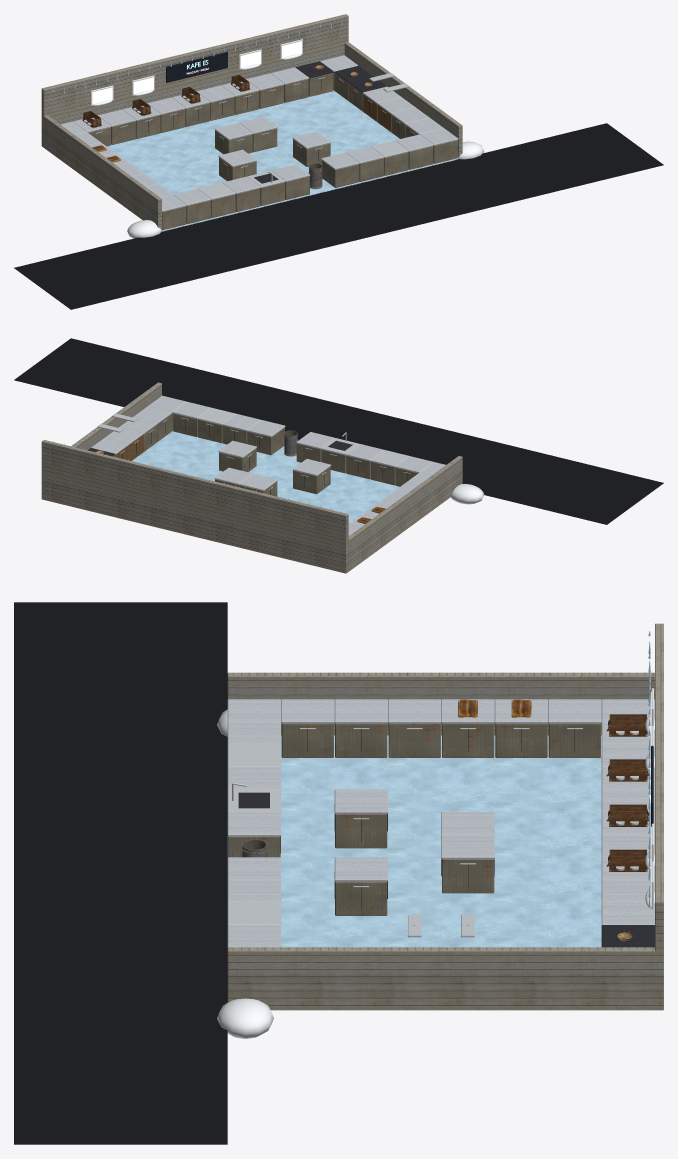
3 renders of one model, top to bottom at view 1: azimuth 30°, elevation 25°; view 2: azimuth 150°, elevation 25°; view 3: azimuth 270°, elevation 25°, orthographic. The views are drawn at different scales.
Parts seen in each view (by area): view 1: statis; view 2: statis; view 3: statis.
Boxes of the visible parts, bbox=[...] form: statis: bbox=[14, 14, 663, 309]; statis: bbox=[14, 338, 663, 573]; statis: bbox=[14, 602, 663, 1144].
Bounding box in the file's own units: 28.8 × 3.06 × 14.6.
Materials: 26 (14 with a texture image).
